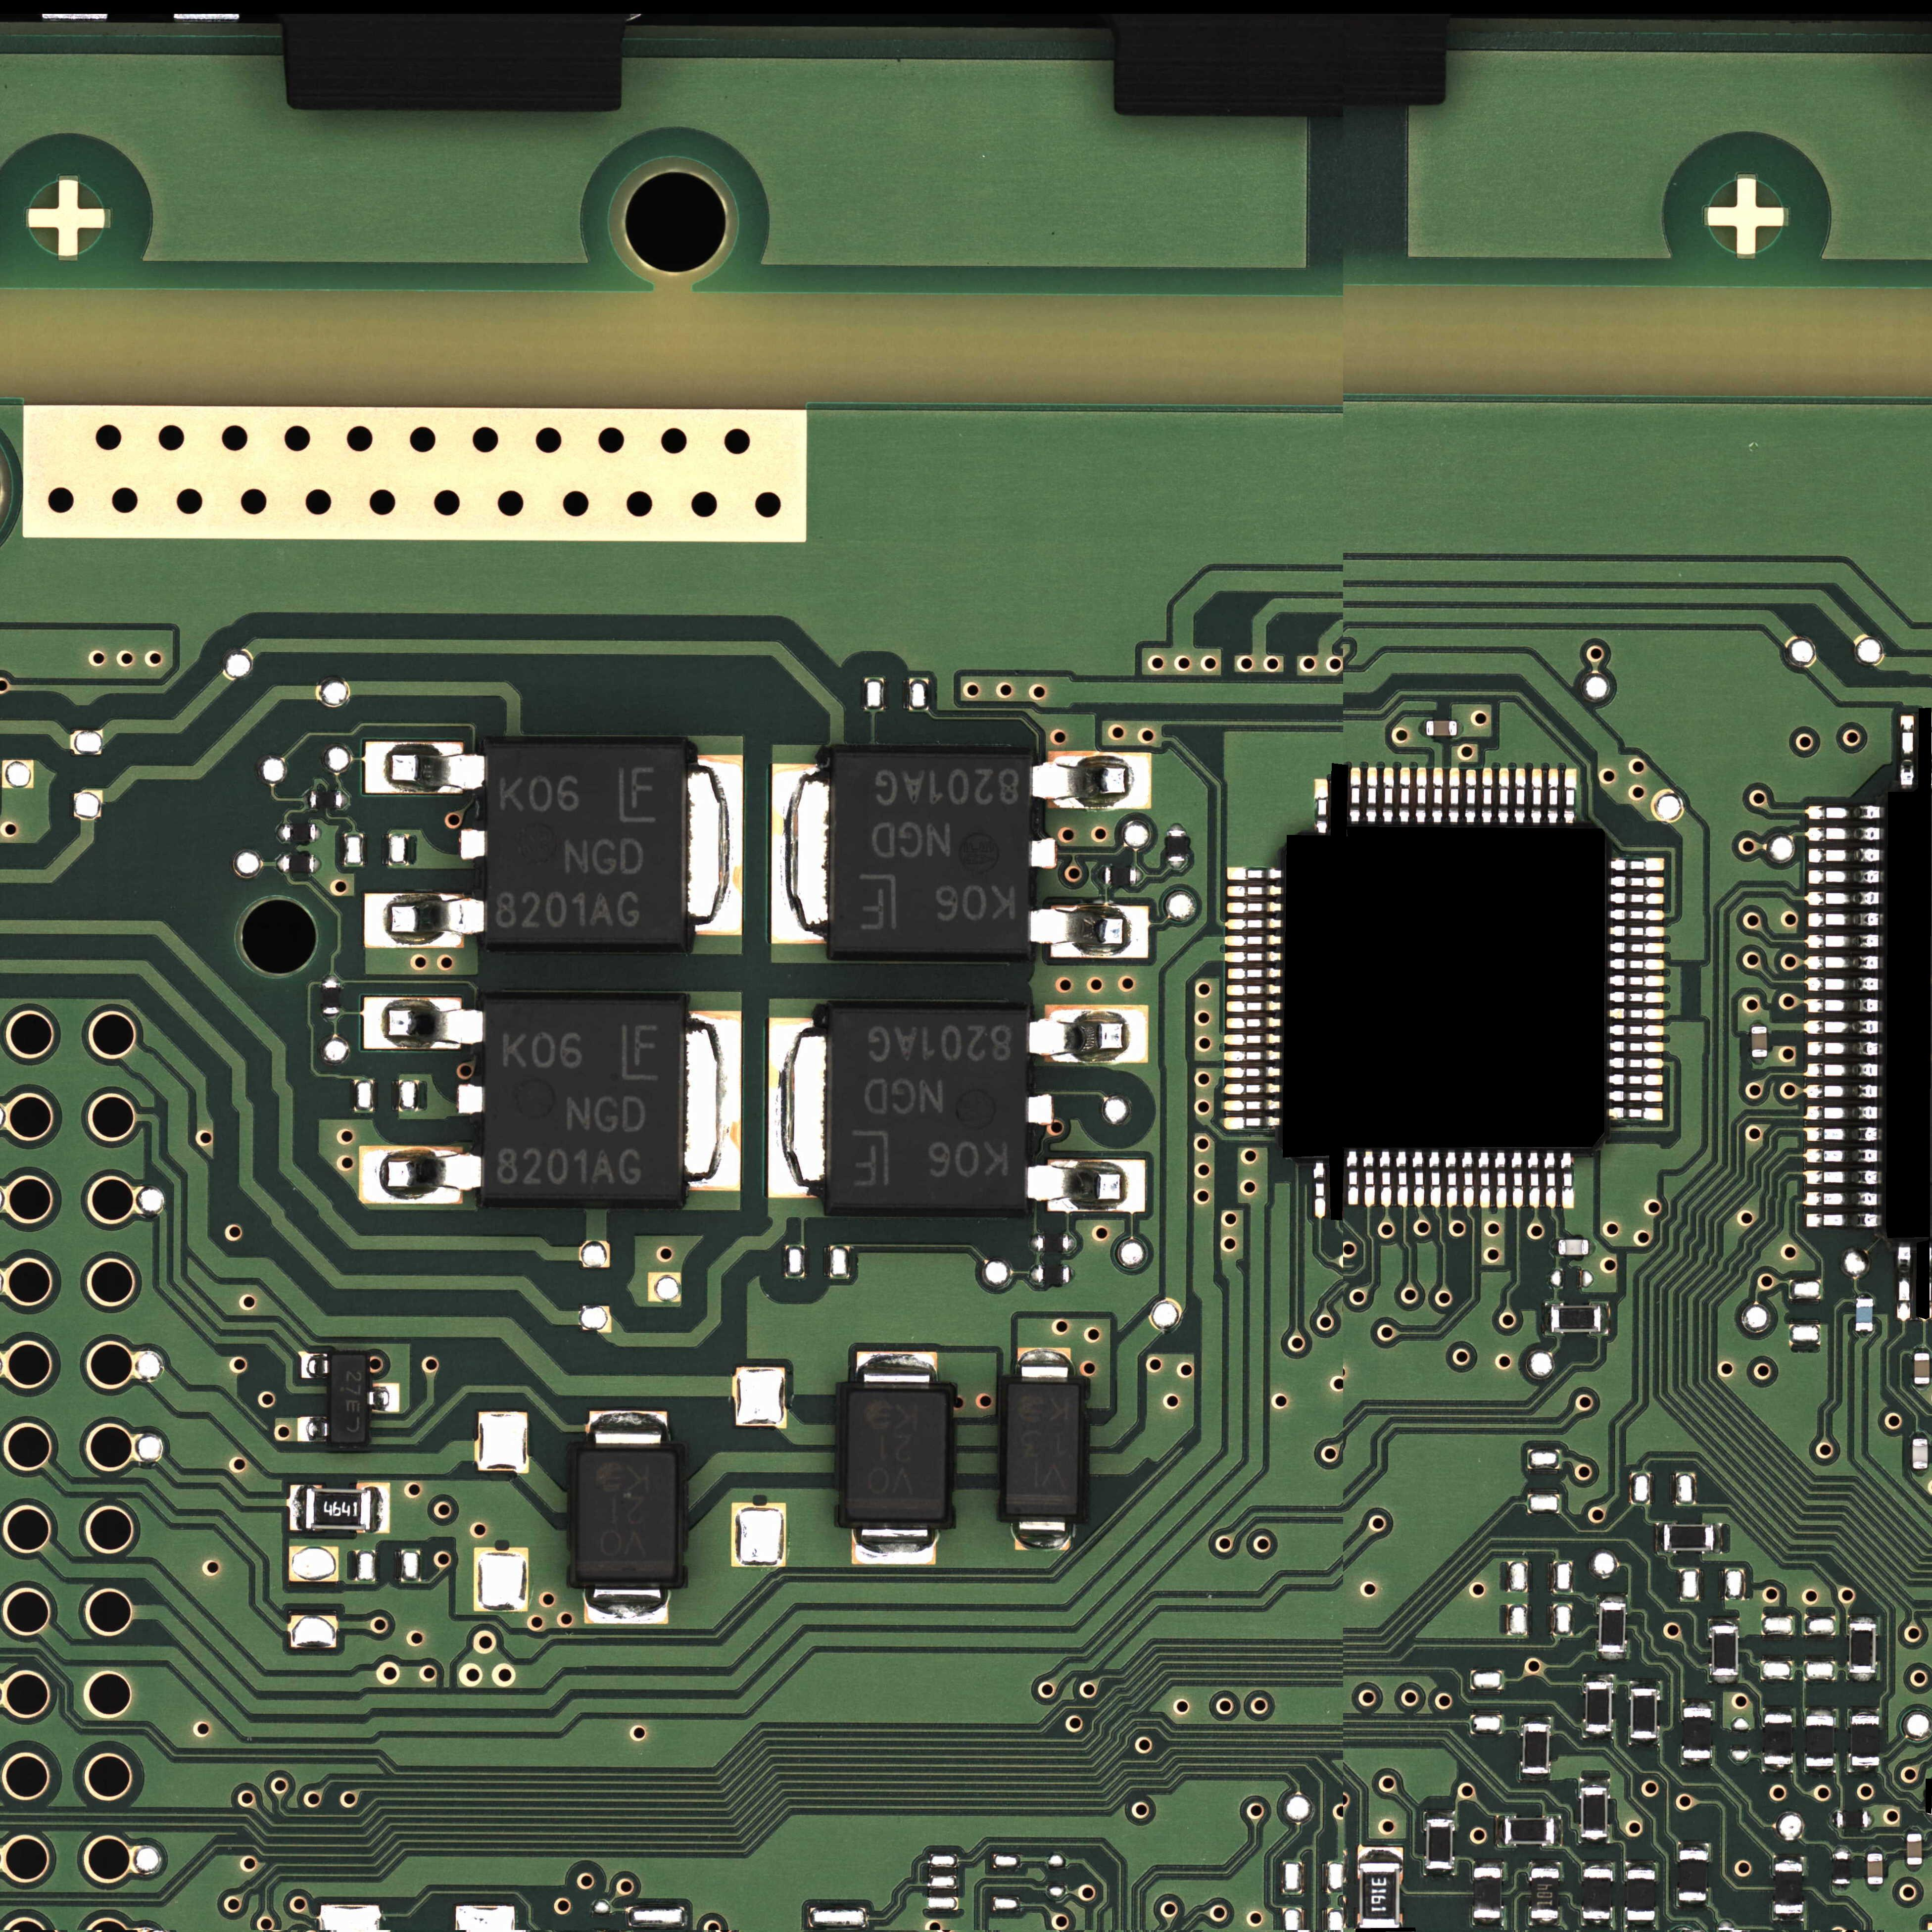Package: (485, 1001, 679, 1201), (490, 745, 683, 947), (832, 1008, 1024, 1210), (835, 755, 1028, 955), (577, 1451, 676, 1580), (847, 1392, 947, 1520), (1007, 1385, 1077, 1514), (331, 1355, 366, 1444), (306, 1488, 372, 1530), (1359, 1863, 1399, 1928), (1583, 1868, 1612, 1920), (1683, 1707, 1711, 1759), (1764, 1714, 1792, 1764), (1775, 1863, 1803, 1913), (1851, 1716, 1879, 1766), (1679, 1851, 1707, 1900), (1530, 1868, 1559, 1918), (1426, 1819, 1453, 1870), (1599, 1603, 1626, 1652), (1628, 1870, 1654, 1920), (1474, 1868, 1500, 1918), (1585, 1683, 1612, 1732), (1806, 1716, 1833, 1766), (1713, 1626, 1737, 1675), (1552, 1306, 1601, 1330), (1523, 1723, 1548, 1773), (1582, 1787, 1606, 1836), (1631, 1690, 1656, 1737), (1665, 1525, 1713, 1550), (1506, 1819, 1553, 1844), (1851, 1624, 1875, 1672), (322, 982, 340, 1014), (283, 824, 315, 842), (1168, 830, 1185, 862), (1037, 1265, 1069, 1283), (1856, 1299, 1872, 1332), (283, 855, 313, 872), (1106, 867, 1136, 885), (311, 791, 341, 809), (1836, 1812, 1868, 1828), (1037, 1235, 1069, 1251), (1426, 720, 1456, 736), (1913, 1438, 1928, 1468), (1752, 1026, 1767, 1056), (1914, 1353, 1930, 1384), (1833, 1854, 1849, 1884), (1559, 1240, 1589, 1254), (1907, 1835, 1921, 1865), (1868, 1854, 1882, 1884)
Solder: (770, 763, 835, 945), (681, 1008, 743, 1191), (768, 1017, 830, 1198), (685, 755, 745, 936), (1028, 750, 1152, 810), (359, 1146, 483, 1205), (1026, 1005, 1148, 1063), (364, 892, 488, 948), (1028, 904, 1150, 961), (364, 741, 488, 796), (363, 996, 485, 1051), (1026, 1159, 1146, 1214), (584, 1580, 669, 1624), (853, 1520, 936, 1564), (856, 1352, 938, 1392), (587, 1410, 669, 1451), (1014, 1514, 1070, 1550), (1017, 1346, 1070, 1384), (1897, 713, 1916, 789), (1803, 803, 1882, 821), (1803, 847, 1882, 863), (1803, 1191, 1882, 1207), (1897, 1246, 1913, 1323), (1803, 826, 1882, 840), (1803, 869, 1882, 883), (1803, 890, 1882, 904), (1801, 913, 1881, 927), (1801, 934, 1881, 948), (1803, 955, 1882, 970), (1803, 977, 1882, 991), (1801, 998, 1881, 1012), (1801, 1019, 1881, 1033), (1801, 1127, 1881, 1141), (1801, 1148, 1881, 1162), (1803, 1214, 1882, 1228), (1803, 1040, 1881, 1054), (1803, 1062, 1881, 1076), (1801, 1085, 1879, 1099), (1801, 1106, 1879, 1120), (1803, 1171, 1881, 1185), (366, 1384, 400, 1414), (1610, 855, 1665, 872), (372, 1483, 389, 1534), (1030, 837, 1058, 869), (1024, 1093, 1053, 1125), (1226, 865, 1283, 881), (1610, 874, 1665, 890), (297, 1417, 331, 1442), (1560, 1152, 1575, 1210), (1527, 1150, 1541, 1208), (1511, 1150, 1525, 1208), (1477, 1150, 1491, 1208), (1461, 1150, 1476, 1208), (1428, 1148, 1442, 1207), (1346, 1148, 1361, 1207), (1380, 1148, 1394, 1207), (1396, 1150, 1410, 1208), (1223, 1049, 1281, 1063), (1223, 1065, 1281, 1079), (1223, 1116, 1281, 1131), (1357, 1845, 1403, 1863), (1610, 1056, 1667, 1070), (1608, 1074, 1665, 1088), (1608, 1108, 1665, 1122), (1608, 1090, 1665, 1104), (1313, 1161, 1327, 1217), (462, 830, 488, 860), (456, 1085, 483, 1115), (1315, 778, 1329, 833), (301, 1353, 331, 1378), (290, 1484, 306, 1530), (1610, 909, 1668, 922), (1610, 925, 1668, 938), (1608, 1008, 1667, 1021), (1608, 1024, 1667, 1037), (1608, 1040, 1667, 1053), (1545, 1152, 1557, 1210), (1495, 1150, 1507, 1208), (1445, 1150, 1458, 1208), (1364, 1148, 1376, 1207), (1224, 968, 1283, 980), (1223, 1033, 1281, 1046), (1382, 766, 1394, 824), (1415, 766, 1428, 824), (1514, 766, 1527, 824), (1481, 766, 1493, 824), (1610, 892, 1667, 904), (1610, 975, 1667, 987), (1610, 991, 1667, 1003), (1414, 1150, 1426, 1207), (1330, 1162, 1343, 1219), (1224, 885, 1281, 897), (1226, 901, 1283, 913), (1224, 918, 1281, 931), (1224, 934, 1281, 947), (1224, 952, 1281, 964), (1224, 984, 1281, 996), (1224, 1017, 1281, 1030), (1224, 1083, 1281, 1095), (1223, 1099, 1279, 1111), (1350, 768, 1362, 824), (1366, 766, 1378, 823), (1398, 766, 1410, 823), (1431, 766, 1444, 823), (1449, 766, 1461, 823), (1465, 766, 1477, 823), (1564, 766, 1576, 823), (1548, 766, 1560, 823), (1530, 766, 1543, 823), (1497, 766, 1509, 823), (1610, 943, 1668, 954), (1610, 959, 1668, 970), (1224, 1001, 1281, 1012), (173, 12, 241, 21), (42, 14, 111, 19), (1654, 1522, 1665, 1553), (1582, 1859, 1614, 1870), (1495, 1815, 1506, 1847), (1677, 1840, 1709, 1851), (1598, 1592, 1628, 1603), (1849, 1706, 1879, 1716), (1683, 1698, 1713, 1709), (1626, 1859, 1656, 1870), (1806, 1706, 1836, 1716), (1424, 1810, 1456, 1819), (1773, 1854, 1805, 1863), (1472, 1859, 1504, 1868), (1773, 1913, 1805, 1921), (1424, 1868, 1454, 1877), (1847, 1615, 1877, 1624), (1580, 1778, 1610, 1787), (1629, 1681, 1660, 1690), (1530, 1859, 1560, 1868), (1583, 1674, 1614, 1683), (1626, 1920, 1656, 1928), (1582, 1918, 1612, 1927), (1529, 1918, 1559, 1927), (1472, 1918, 1502, 1927), (1599, 1304, 1608, 1332), (1764, 1706, 1792, 1714), (1596, 1652, 1628, 1660), (1762, 1764, 1794, 1771), (1520, 1716, 1552, 1723), (1520, 1773, 1550, 1780), (1849, 1766, 1879, 1773), (1683, 1759, 1713, 1766), (1677, 1900, 1707, 1907), (1709, 1619, 1739, 1626), (1580, 1836, 1610, 1844), (1805, 1766, 1835, 1773), (1714, 1523, 1721, 1553), (1553, 1815, 1560, 1845), (1629, 1737, 1660, 1744), (1847, 1674, 1877, 1681), (1545, 1304, 1552, 1332), (1711, 1675, 1739, 1683), (1583, 1732, 1614, 1737), (1168, 823, 1185, 832), (322, 1014, 340, 1023), (324, 975, 340, 984), (1417, 720, 1426, 736), (1456, 720, 1465, 736), (1752, 1056, 1767, 1065), (1833, 1845, 1849, 1854), (1867, 1845, 1882, 1854), (1913, 1468, 1928, 1477), (1168, 862, 1187, 869), (276, 824, 283, 842), (1069, 1235, 1076, 1253), (1550, 1240, 1559, 1254), (1833, 1884, 1851, 1891), (1905, 1865, 1923, 1872), (341, 793, 349, 809), (315, 856, 322, 872), (1136, 869, 1143, 885), (1031, 1267, 1039, 1283), (1069, 1267, 1076, 1283), (1914, 1346, 1930, 1353), (1913, 1431, 1928, 1438), (1914, 1384, 1930, 1391), (1752, 1019, 1767, 1026), (1867, 1884, 1882, 1891), (1905, 1828, 1921, 1835), (1829, 1812, 1836, 1828), (1589, 1240, 1596, 1254), (1868, 1812, 1875, 1826), (306, 791, 311, 809), (1099, 867, 1104, 885), (1031, 1235, 1037, 1253), (317, 824, 322, 840), (278, 856, 283, 872), (1856, 1293, 1872, 1299), (1856, 1332, 1872, 1338)
